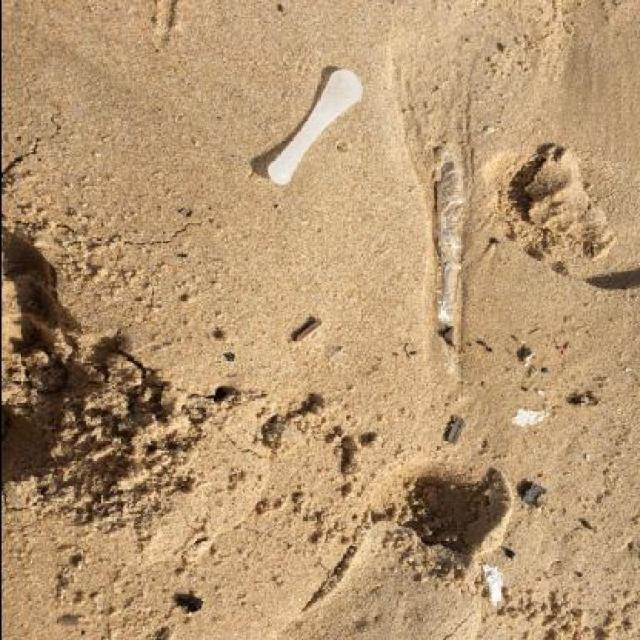plastic: (264, 69, 362, 185)
